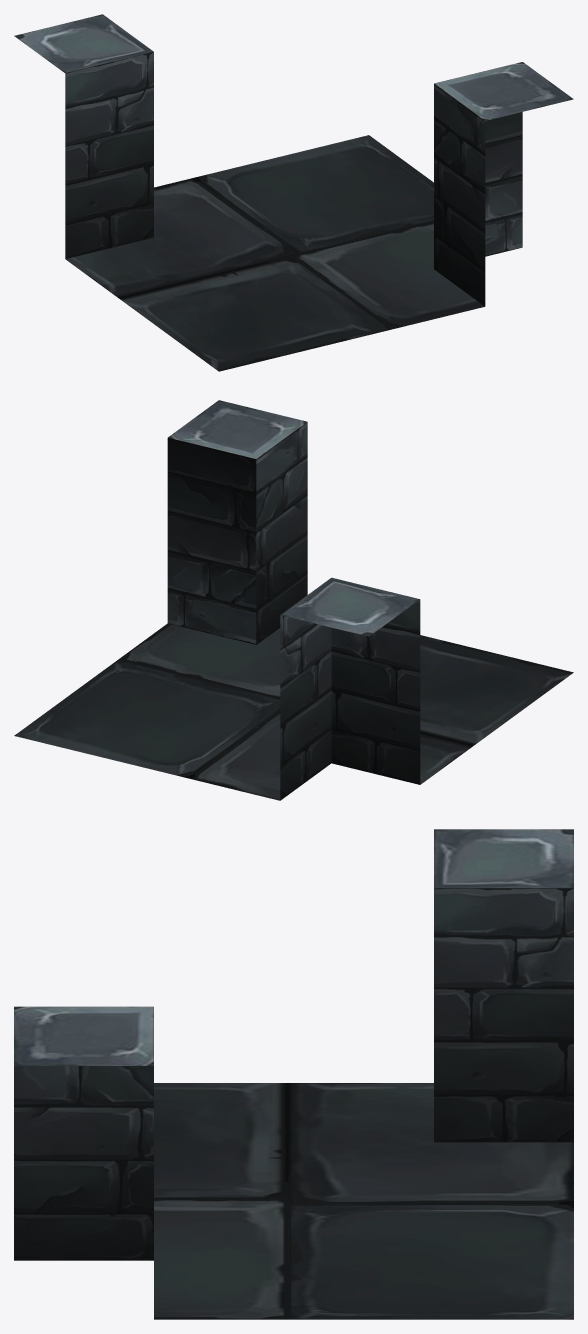
The model's file is double_nitch.fbx.
3 renders of one model, top to bottom at view 1: azimuth 30°, elevation 25°; view 2: azimuth 150°, elevation 25°; view 3: azimuth 270°, elevation 25°, orthographic. The views are drawn at different scales.
Parts seen in each view (by area): view 1: double_nitch_geo; view 2: double_nitch_geo; view 3: double_nitch_geo.
Part boxes in pixels (x1,y1,x2,y2): double_nitch_geo: (14,14,573,371); double_nitch_geo: (14,400,573,800); double_nitch_geo: (14,829,573,1319).
Size of the model in its own units: 100 by 50 by 100.
1 material, 1 textured.
